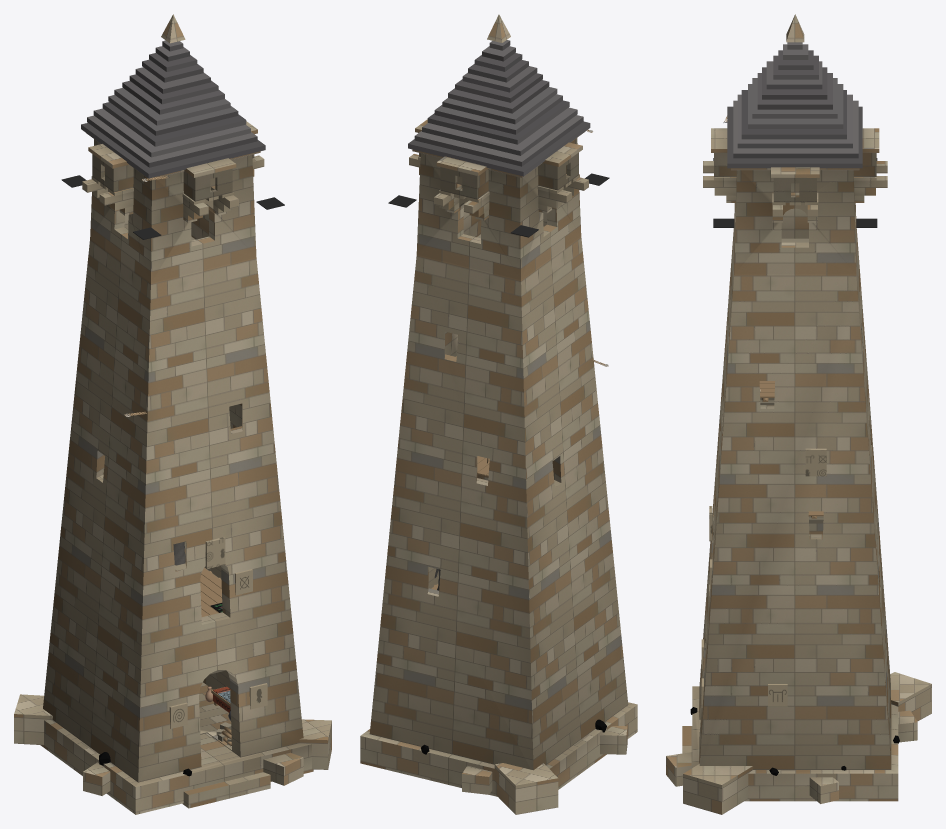
The model's file is vainakh-tower.glb.
3 renders of one model, left to right at view 1: azimuth 30°, elevation 25°; view 2: azimuth 150°, elevation 25°; view 3: azimuth 270°, elevation 25°, orthographic.
Parts seen in each view (by area): view 1: Ext_Shaft, Ext_Roof, Ext_Machicolations, Ext_Rocks, Ext_Petroglyphs, Ext_Stairs, Int_Planks_4_0, Ext_MurderHoles; view 2: Ext_Shaft, Ext_Roof, Ext_Machicolations, Ext_Rocks, Ext_MurderHoles; view 3: Ext_Shaft, Ext_Roof, Ext_Rocks, Ext_Machicolations, Ext_Petroglyphs.
Part boxes in pixels (x1,y1,x2,y2): Ext_Shaft: [40, 139, 313, 814]; Ext_Roof: [81, 40, 265, 178]; Ext_Machicolations: [82, 121, 264, 222]; Ext_Rocks: [14, 694, 331, 795]; Ext_Petroglyphs: [169, 537, 267, 728]; Ext_Stairs: [182, 772, 270, 808]; Int_Planks_4_0: [200, 567, 222, 616]; Ext_MurderHoles: [61, 175, 284, 239]; Ext_Shaft: [360, 138, 637, 796]; Ext_Roof: [408, 40, 590, 176]; Ext_Machicolations: [409, 119, 588, 220]; Ext_Rocks: [421, 719, 627, 814]; Ext_MurderHoles: [388, 173, 609, 237]; Ext_Shaft: [692, 170, 898, 801]; Ext_Roof: [727, 42, 862, 168]; Ext_Rocks: [666, 672, 931, 814]; Ext_Machicolations: [703, 128, 887, 222]; Ext_Petroglyphs: [701, 448, 826, 707].
Size of the model in its own units: 7.68 by 23.56 by 7.62.
Materials: 28 (8 with a texture image).
